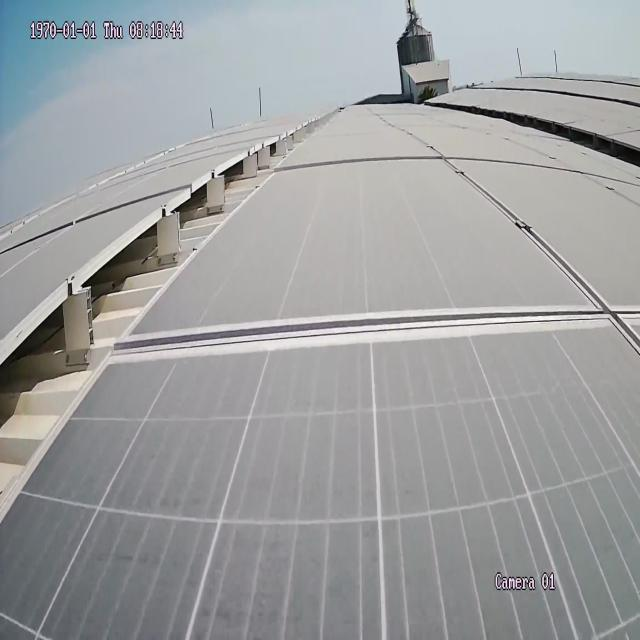interior panel: (141, 159, 640, 364)
outher panel: (0, 114, 331, 508), (483, 110, 639, 171)
